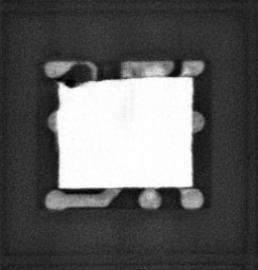DIE_BROKEN: (61, 79, 85, 88)
